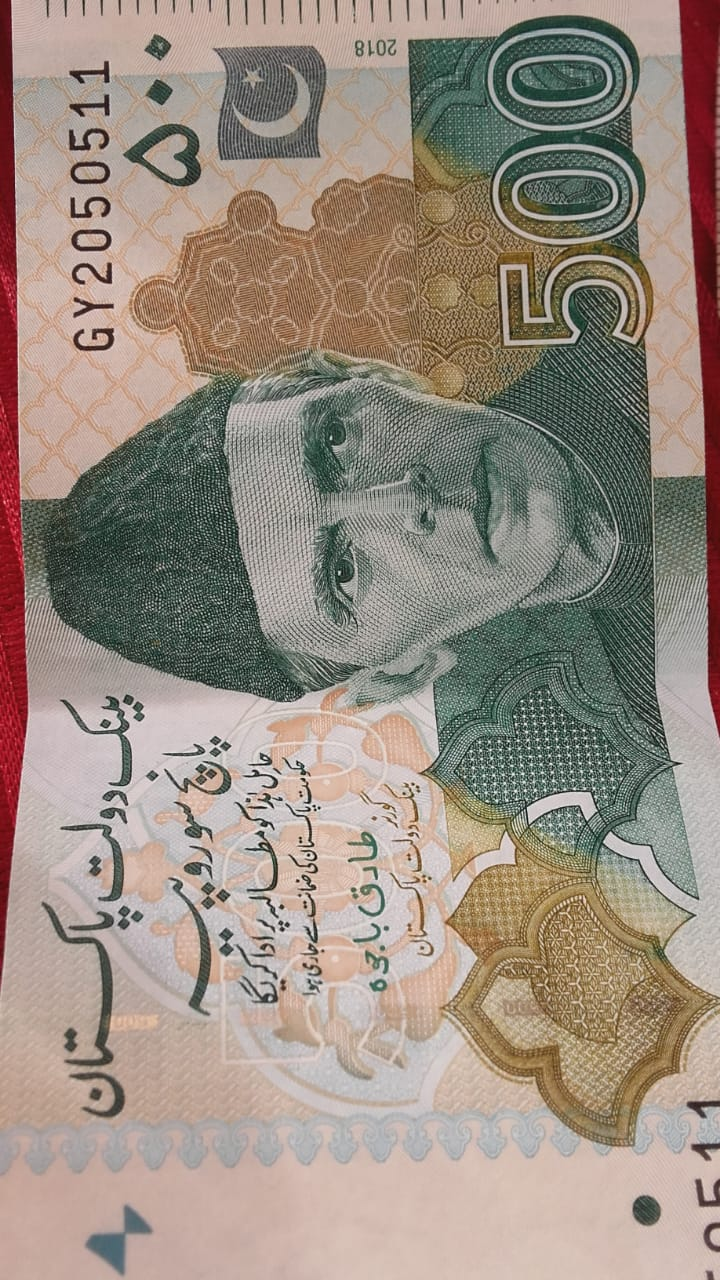500 rupee: (14, 5, 700, 1255)
